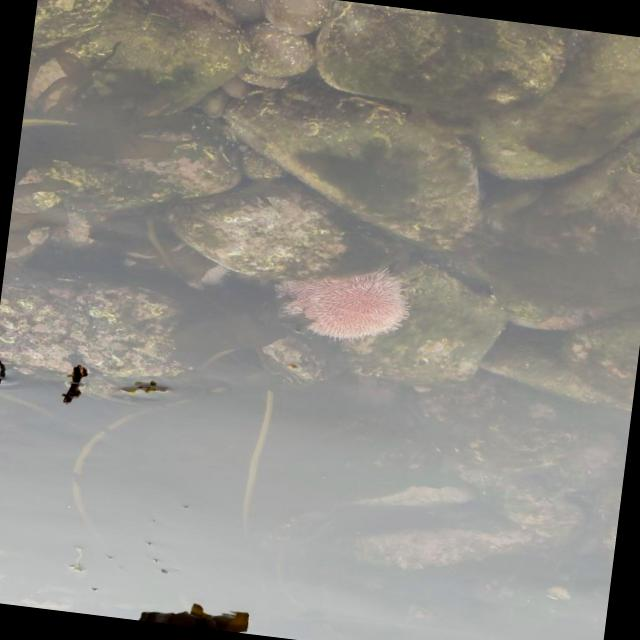Deniz Kestanesi: (266, 253, 416, 349)
